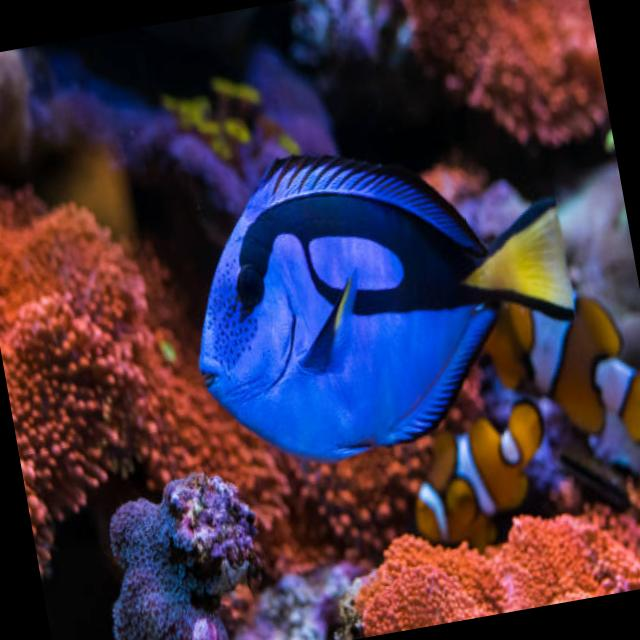ClownFish: (479, 239, 640, 468), (392, 410, 542, 548)
TangFish: (161, 104, 594, 480)
